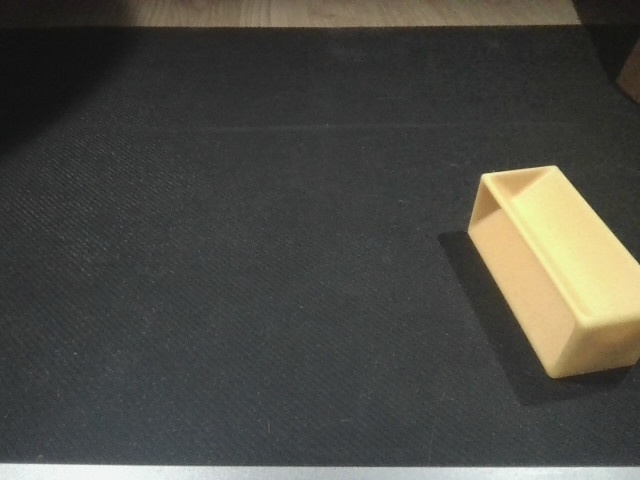YellowSample: (460, 159, 640, 384)
